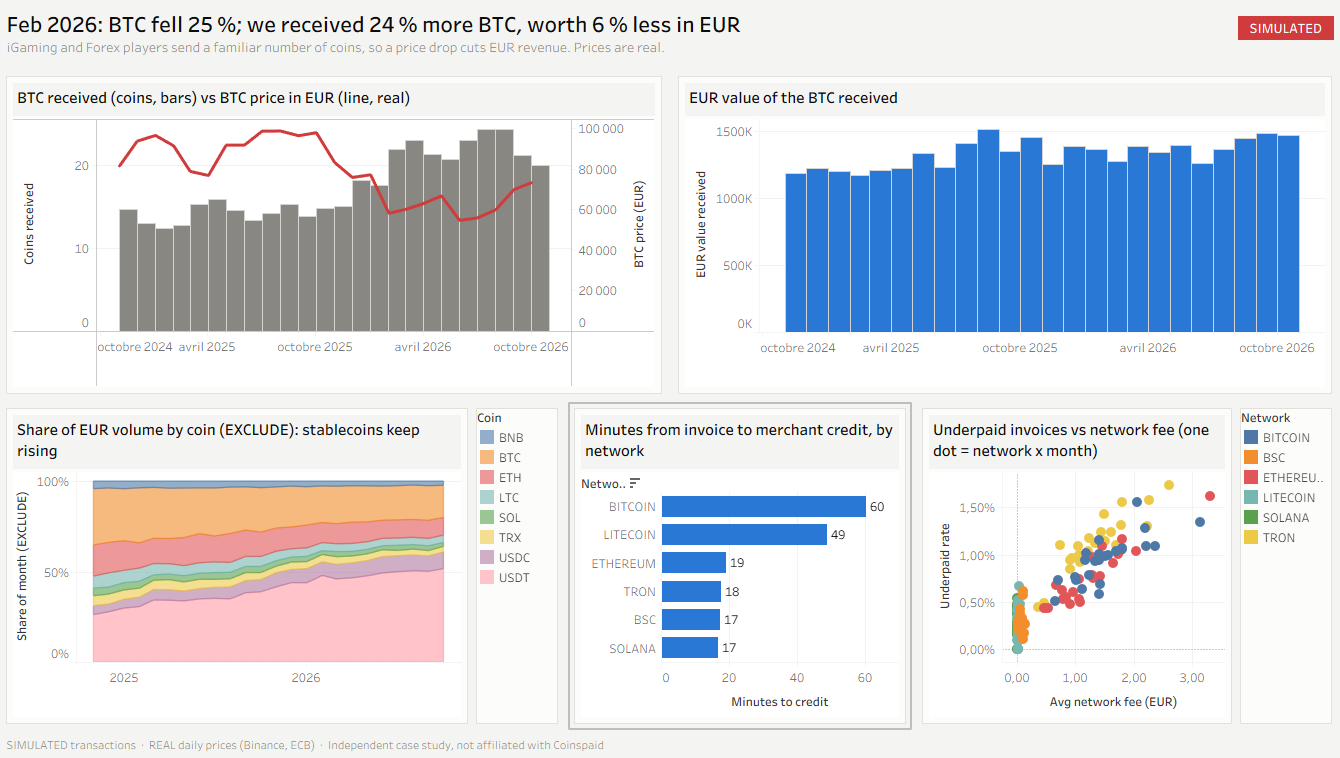

The dashboard page shown, as its layout file describes it:
{"tool":"tableau","page":{"name":"5 Crypto mix & volatility","canvas":[1366,768],"ordinal":4},"visuals":[{"type":"text","box":[16,8,1212,66]},{"type":"text","box":[1250,22,100,28]},{"type":"worksheet","title":"BTC received vs price","mark":"Bar","rows":["volume_crypto","BTC price (EUR)"],"cols":["date"],"box":[16,80,664,326]},{"type":"worksheet","title":"EUR value of BTC","mark":"Bar","rows":["volume_eur"],"cols":["date"],"box":[688,80,662,326]},{"type":"worksheet","title":"Coin mix","mark":"Area","rows":["Share of month (EXCLUDE)"],"cols":["date"],"box":[16,412,470,324]},{"type":"legend","title":"Coin mix","param":"[federated.crypto_daily].[none:currency:nk]","box":[486,412,90,324]},{"type":"worksheet","title":"Minutes to credit","mark":"Bar","rows":["network"],"cols":["Minutes to credit"],"box":[584,412,340,324]},{"type":"worksheet","title":"Underpayment vs fee","mark":"Circle","rows":["Underpaid rate"],"cols":["Avg network fee (EUR)"],"box":[932,412,318,324]},{"type":"legend","title":"Underpayment vs fee","param":"[federated.crypto_daily].[none:network:nk]","box":[1250,412,100,324]},{"type":"text","box":[16,742,1334,22]}]}

Visuals, with their boxes in screenshot pixels (x1, y1, x2, y2), scaled from the page's 1366x768 canvas onto the 1340x758 screenshot:
text: box=[16, 8, 1205, 73]
text: box=[1226, 22, 1324, 49]
"BTC received vs price" worksheet (Bar marks): box=[16, 79, 667, 401]
"EUR value of BTC" worksheet (Bar marks): box=[675, 79, 1324, 401]
"Coin mix" worksheet (Area marks): box=[16, 407, 477, 726]
"Coin mix" legend: box=[477, 407, 565, 726]
"Minutes to credit" worksheet (Bar marks): box=[573, 407, 906, 726]
"Underpayment vs fee" worksheet (Circle marks): box=[914, 407, 1226, 726]
"Underpayment vs fee" legend: box=[1226, 407, 1324, 726]
text: box=[16, 732, 1324, 754]
